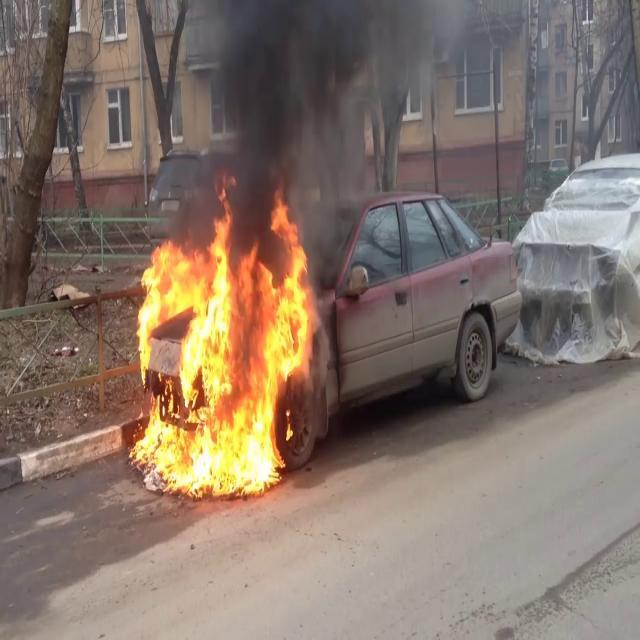Fire: (126, 191, 320, 503)
Smoke: (198, 0, 434, 238)
